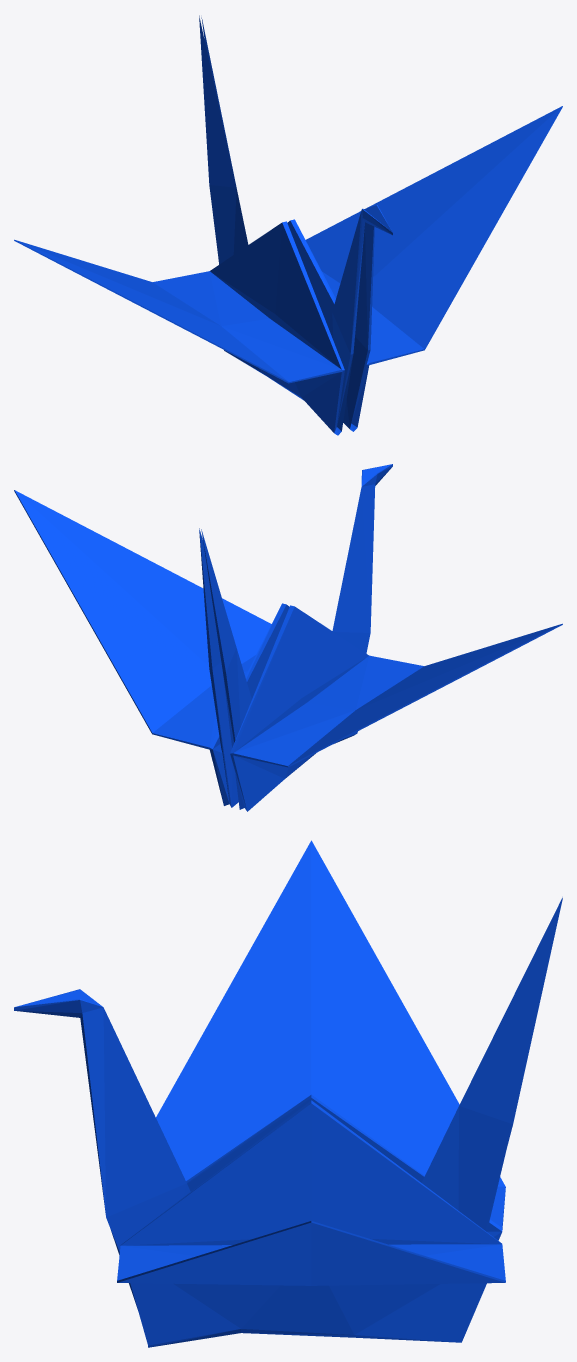
Rendered from flying_crane_export.FBX.
The picture shows the model from 3 angles, top to bottom: view 1: azimuth 30°, elevation 25°; view 2: azimuth 150°, elevation 25°; view 3: azimuth 270°, elevation 25°; orthographic projection. The views are drawn at different scales.
Parts seen in each view (by area): view 1: Crane; view 2: Crane; view 3: Crane.
Boxes of the visible parts, <box> form: Crane: <box>14,15,562,435</box>; Crane: <box>14,464,562,811</box>; Crane: <box>14,840,562,1347</box>.
Size of the model in its own units: 198 by 108 by 120.
